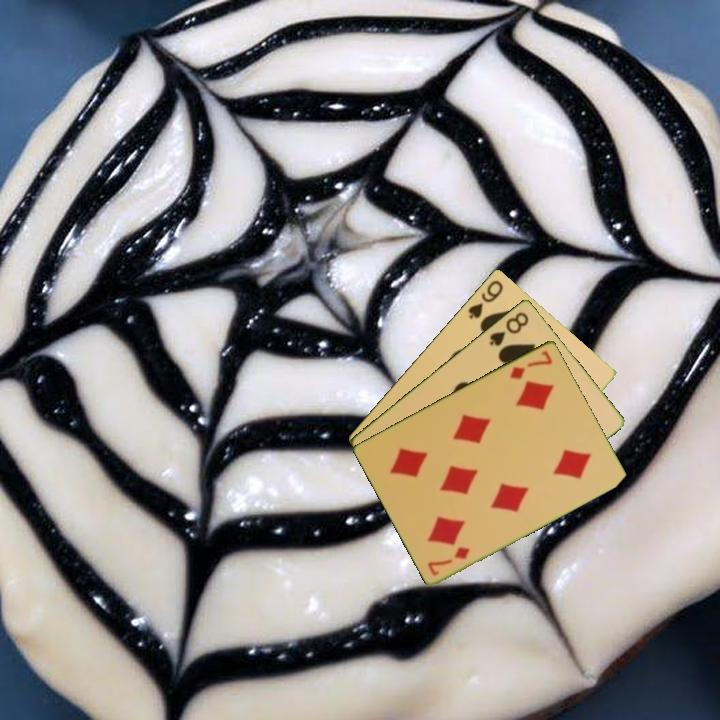7d: (506, 346, 556, 382), (424, 543, 473, 579)
8s: (485, 308, 532, 349)
9s: (464, 276, 506, 321)
